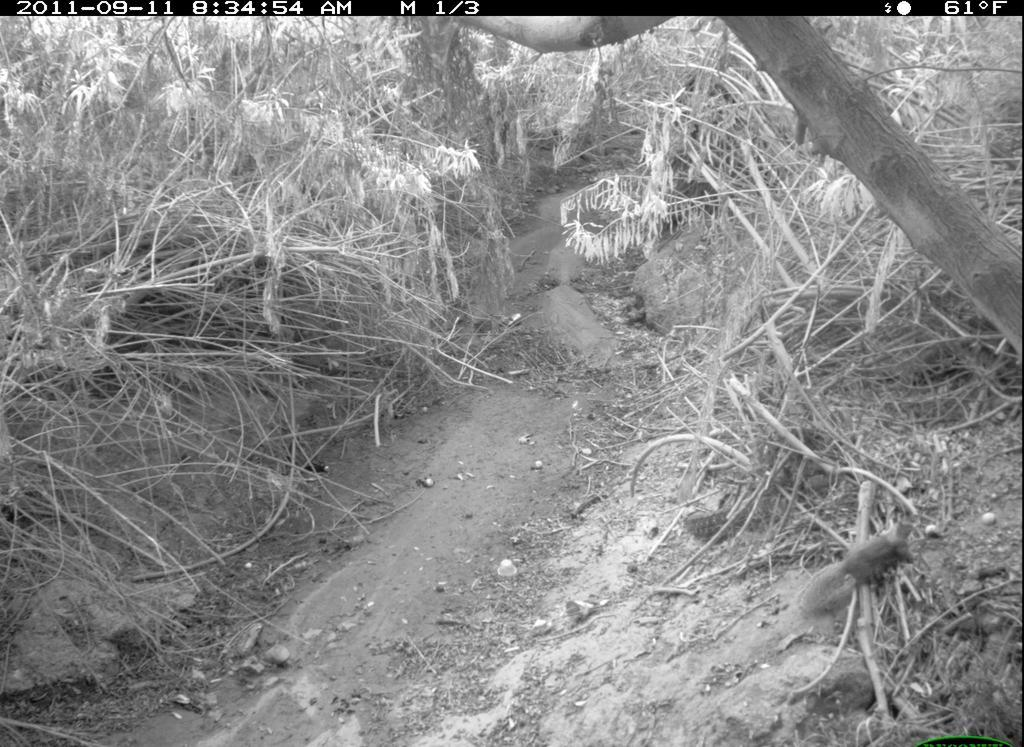squirrel: (794, 516, 921, 635)
